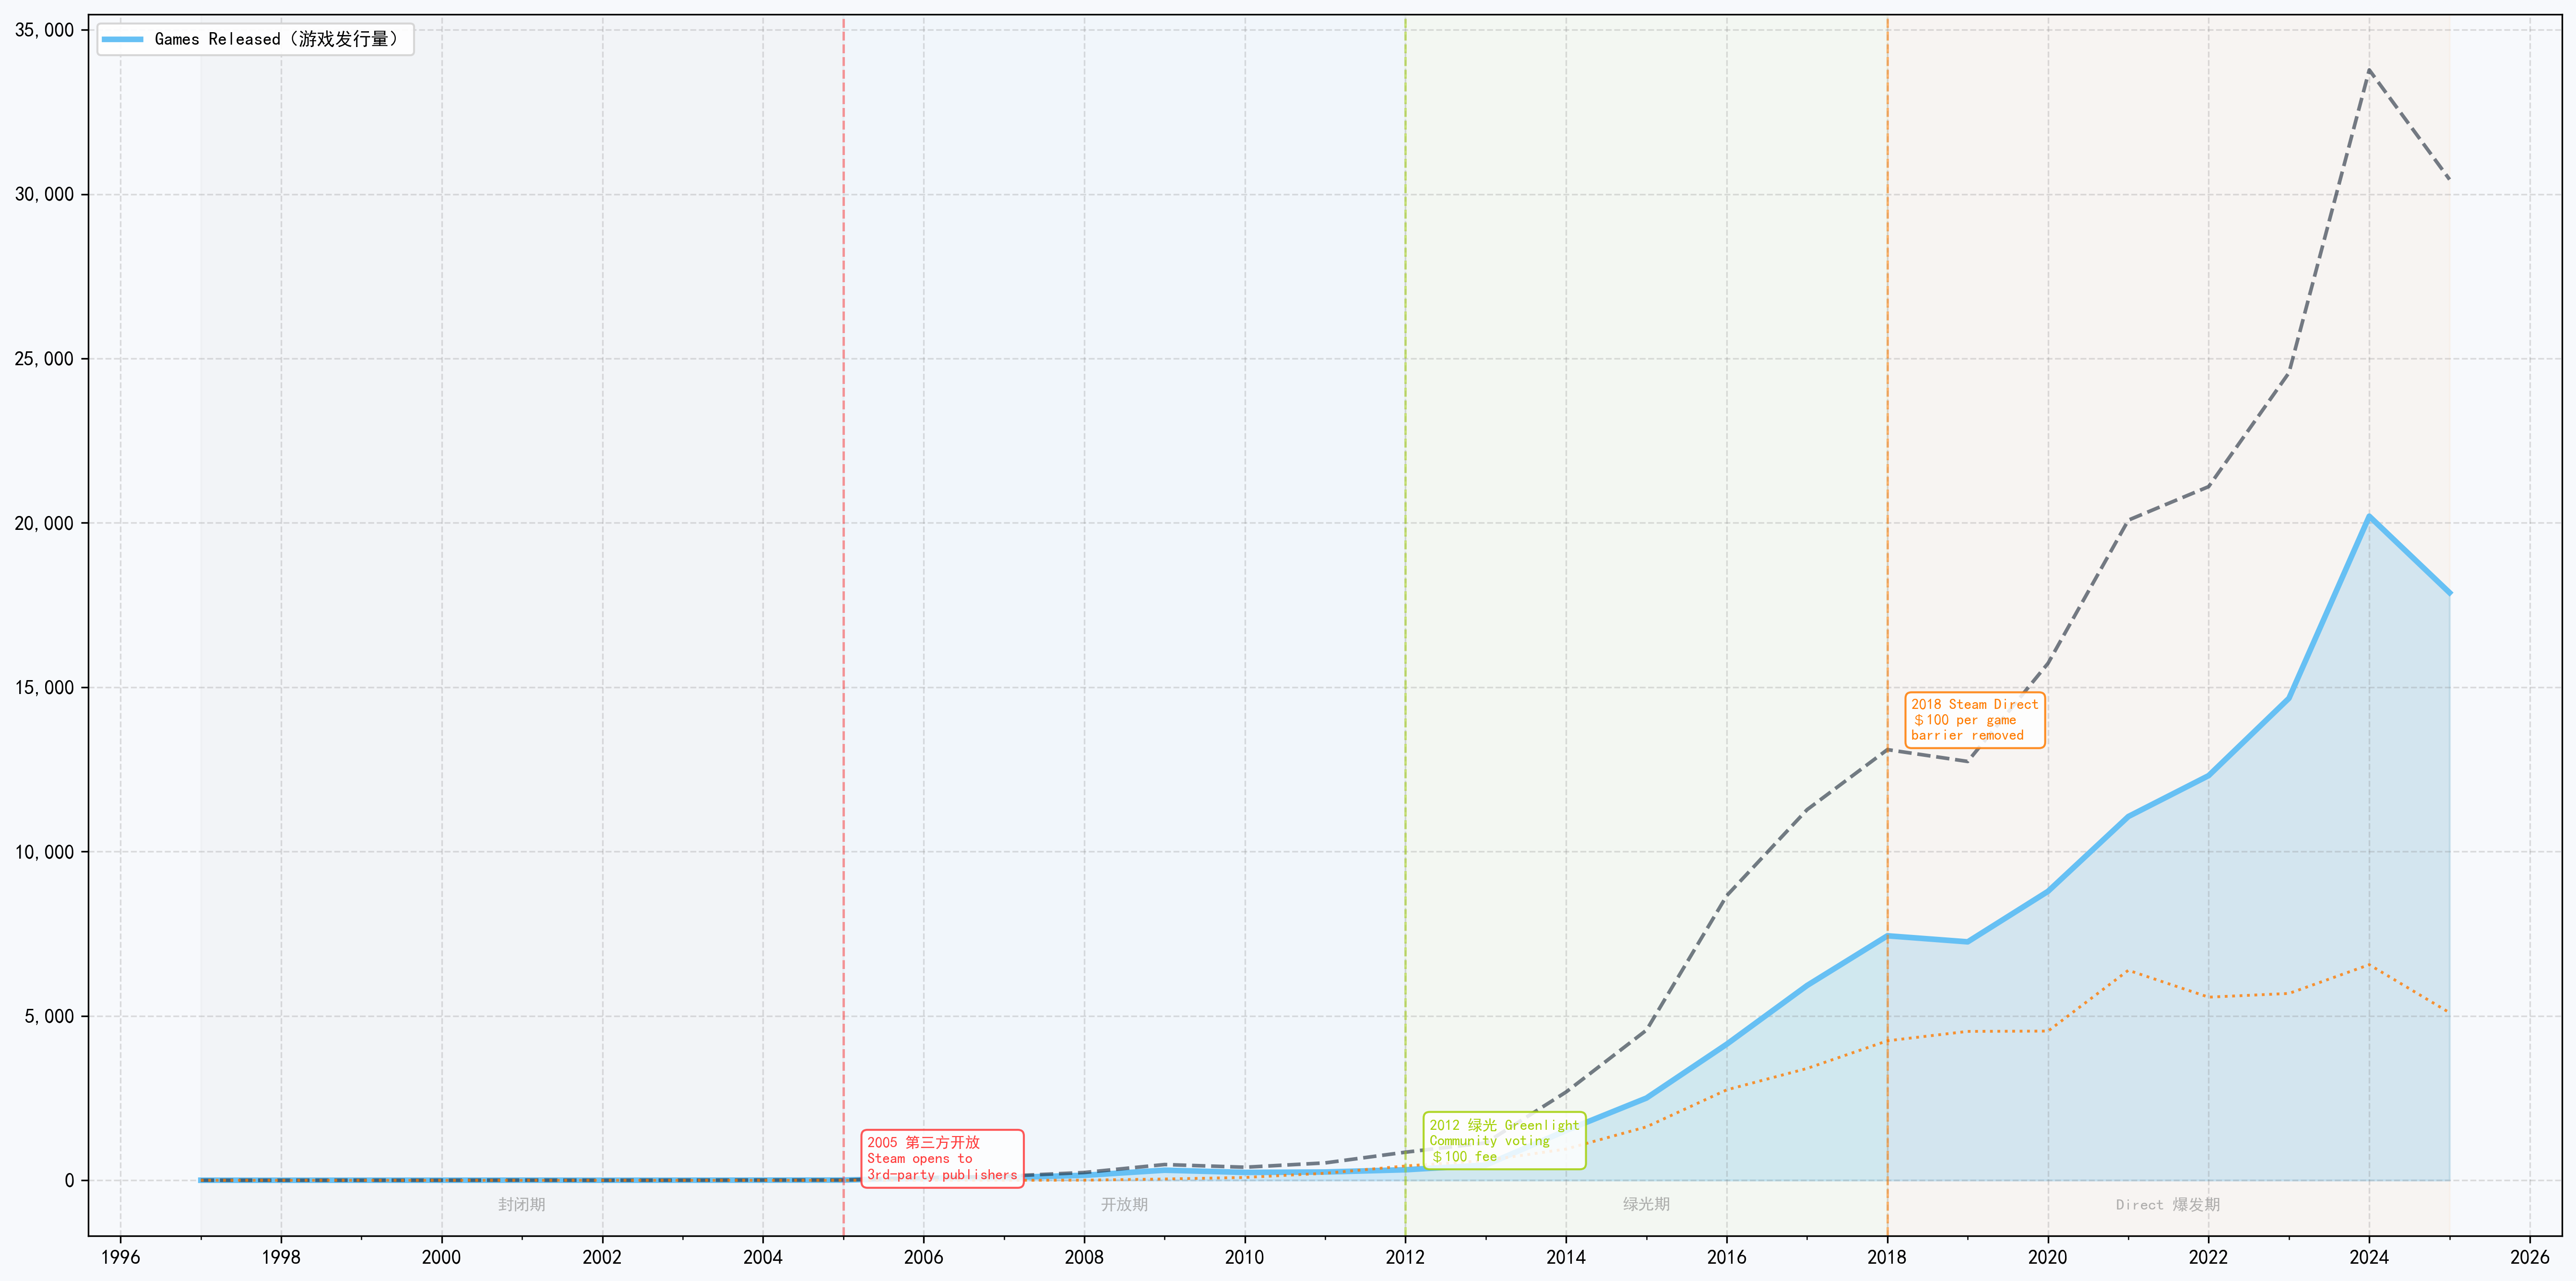

Layout of this report page (visuals, bound fields, positions):
{"tool":"tableau","page":{"name":"仪表板 1","canvas":[1000,1000],"units":"permille","ordinal":0},"visuals":[{"type":"worksheet","title":"工作表 1","mark":"Area","rows":["apps_released","games_released"],"cols":["发行年份 (复制)_2774075795636225"],"box":[3.6,6.9,992.9,493.1]},{"type":"worksheet","title":"工作表 2","mark":"Automatic","rows":["dlc_released","games_released"],"cols":["release_year"],"box":[3.6,500,992.9,493.1]}]}

Visuals, with their boxes on the dashboard's canvas, which has no fixed pixel size, in thousandths of its width and height (x1, y1, x2, y2). These are canvas units, not pixel positions in the 2576x1281 screenshot, which may show the page scaled, cropped or inside an application window:
"工作表 1" worksheet (Area marks): 4/7/996/500
"工作表 2" worksheet: 4/500/996/993
